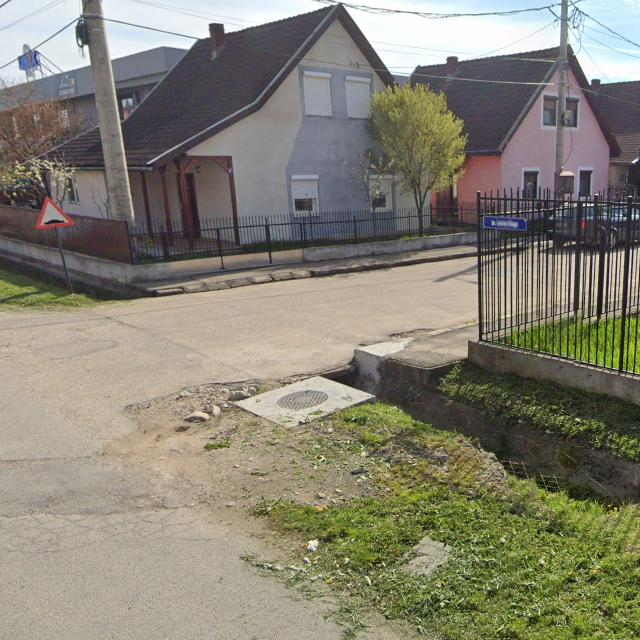warn_speed_bumper: (37, 196, 75, 228)
